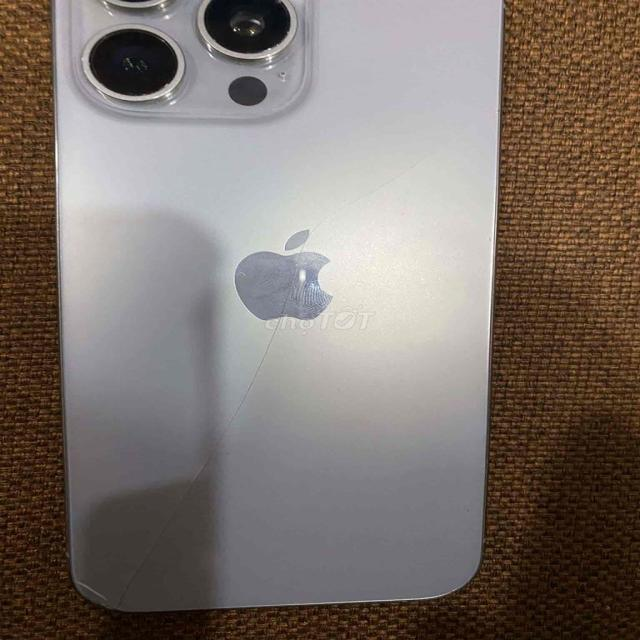gen_16: (35, 0, 507, 622)
physical_damage: (185, 182, 334, 462), (64, 470, 190, 613), (331, 124, 475, 207)
